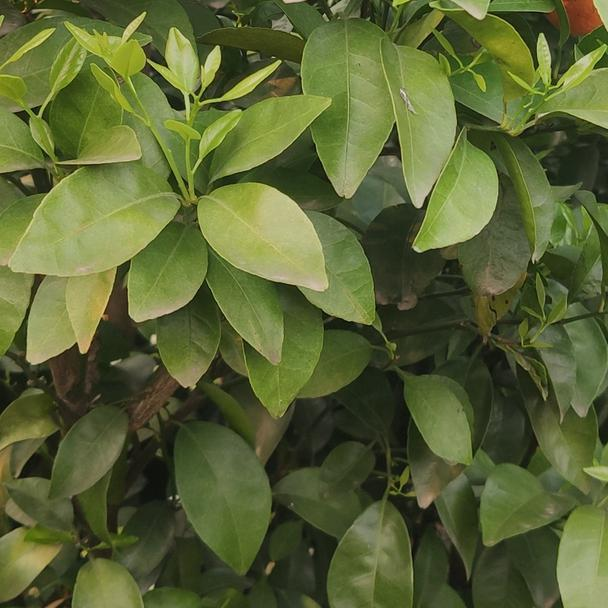shoot: (168, 36, 271, 172), (71, 6, 159, 139)
